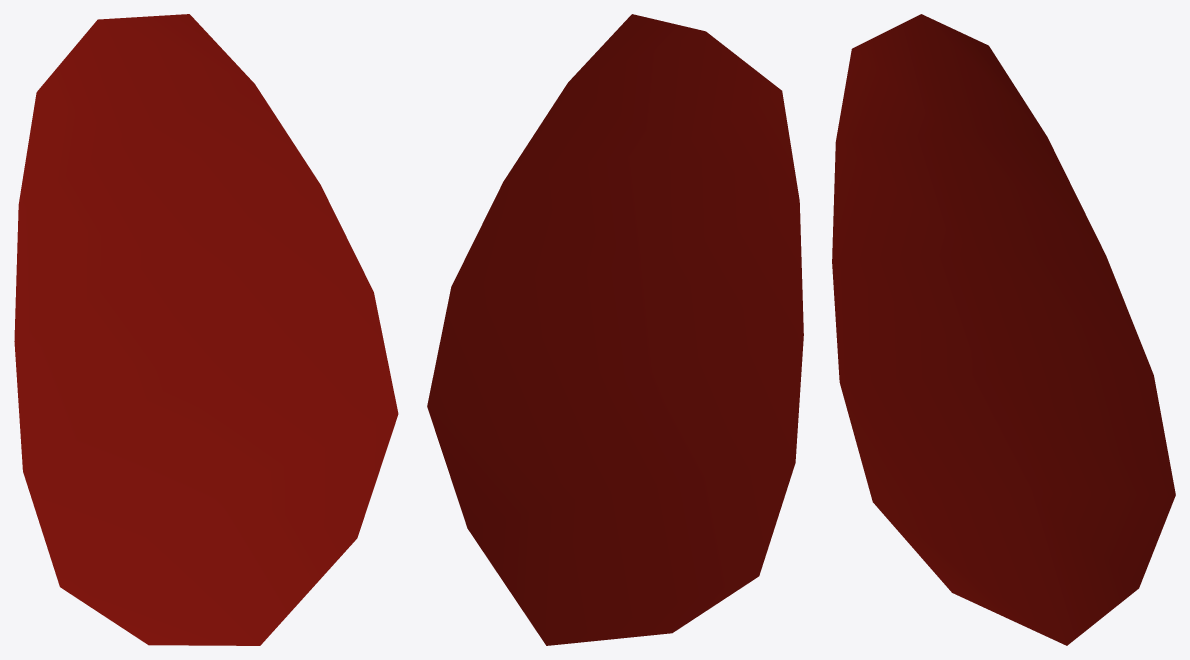
File: ara_feather_flight_tertiary_052.obj
The picture shows the model from 3 angles, left to right: view 1: azimuth 30°, elevation 25°; view 2: azimuth 150°, elevation 25°; view 3: azimuth 330°, elevation 25°; orthographic projection. The views are drawn at different scales.
Parts seen in each view (by area): view 1: feather_flight_tertiary_052; view 2: feather_flight_tertiary_052; view 3: feather_flight_tertiary_052.
Boxes of the visible parts, x1,y1,x2,y2 form: feather_flight_tertiary_052: (14, 14, 398, 645); feather_flight_tertiary_052: (427, 14, 803, 645); feather_flight_tertiary_052: (832, 14, 1175, 645).
Bounding box in the file's own units: 0.0193 × 0.032 × 0.000724.
